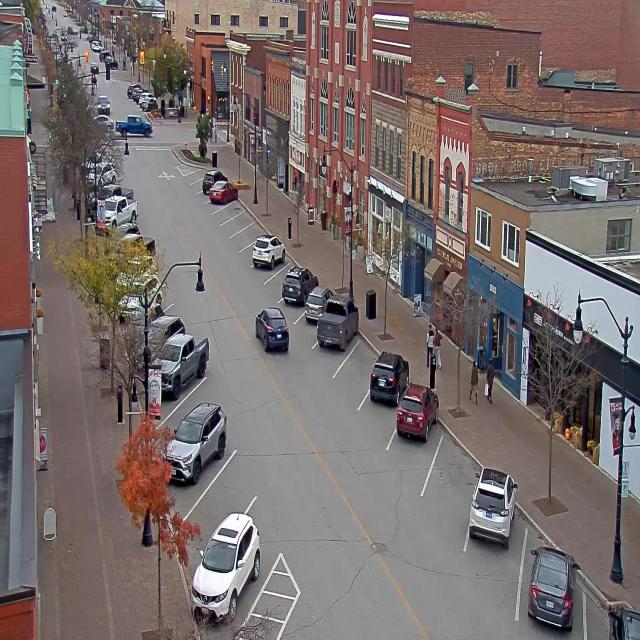available: (200, 441, 268, 514), (430, 431, 480, 512), (342, 331, 379, 390), (173, 370, 226, 410), (264, 260, 292, 298), (236, 241, 260, 267), (236, 222, 261, 245), (230, 211, 252, 231), (222, 198, 242, 215), (186, 169, 205, 182), (189, 178, 202, 196)
occupied: (192, 511, 261, 624), (164, 400, 228, 484), (526, 544, 580, 630), (468, 466, 517, 547), (151, 331, 210, 398), (394, 383, 436, 445), (588, 588, 638, 639), (316, 296, 358, 352), (368, 349, 409, 405), (282, 264, 318, 305), (252, 232, 285, 269), (300, 287, 327, 326), (209, 179, 237, 204), (201, 170, 219, 194)
